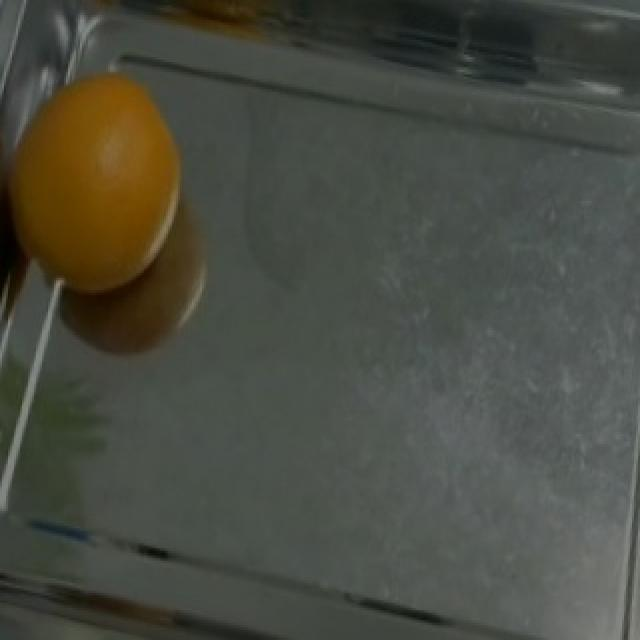Fruit: (0, 52, 206, 318)
